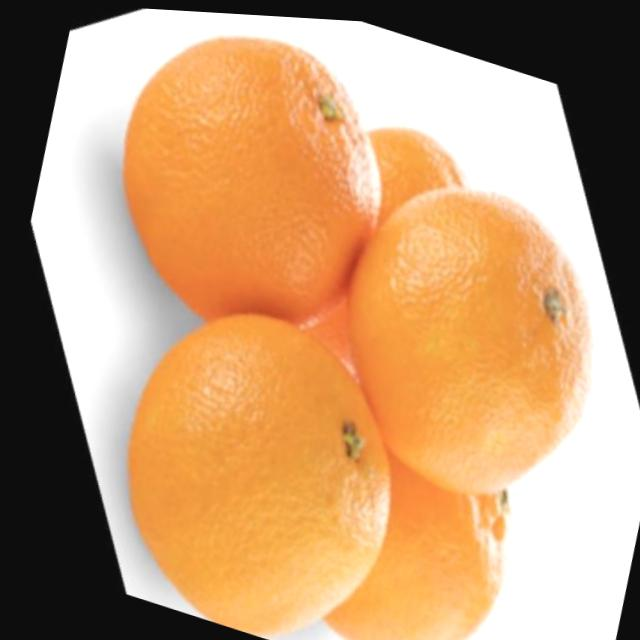Orange: (73, 273, 433, 640), (294, 144, 636, 524), (75, 3, 422, 366), (298, 430, 525, 640), (340, 108, 480, 247), (282, 274, 377, 382)
